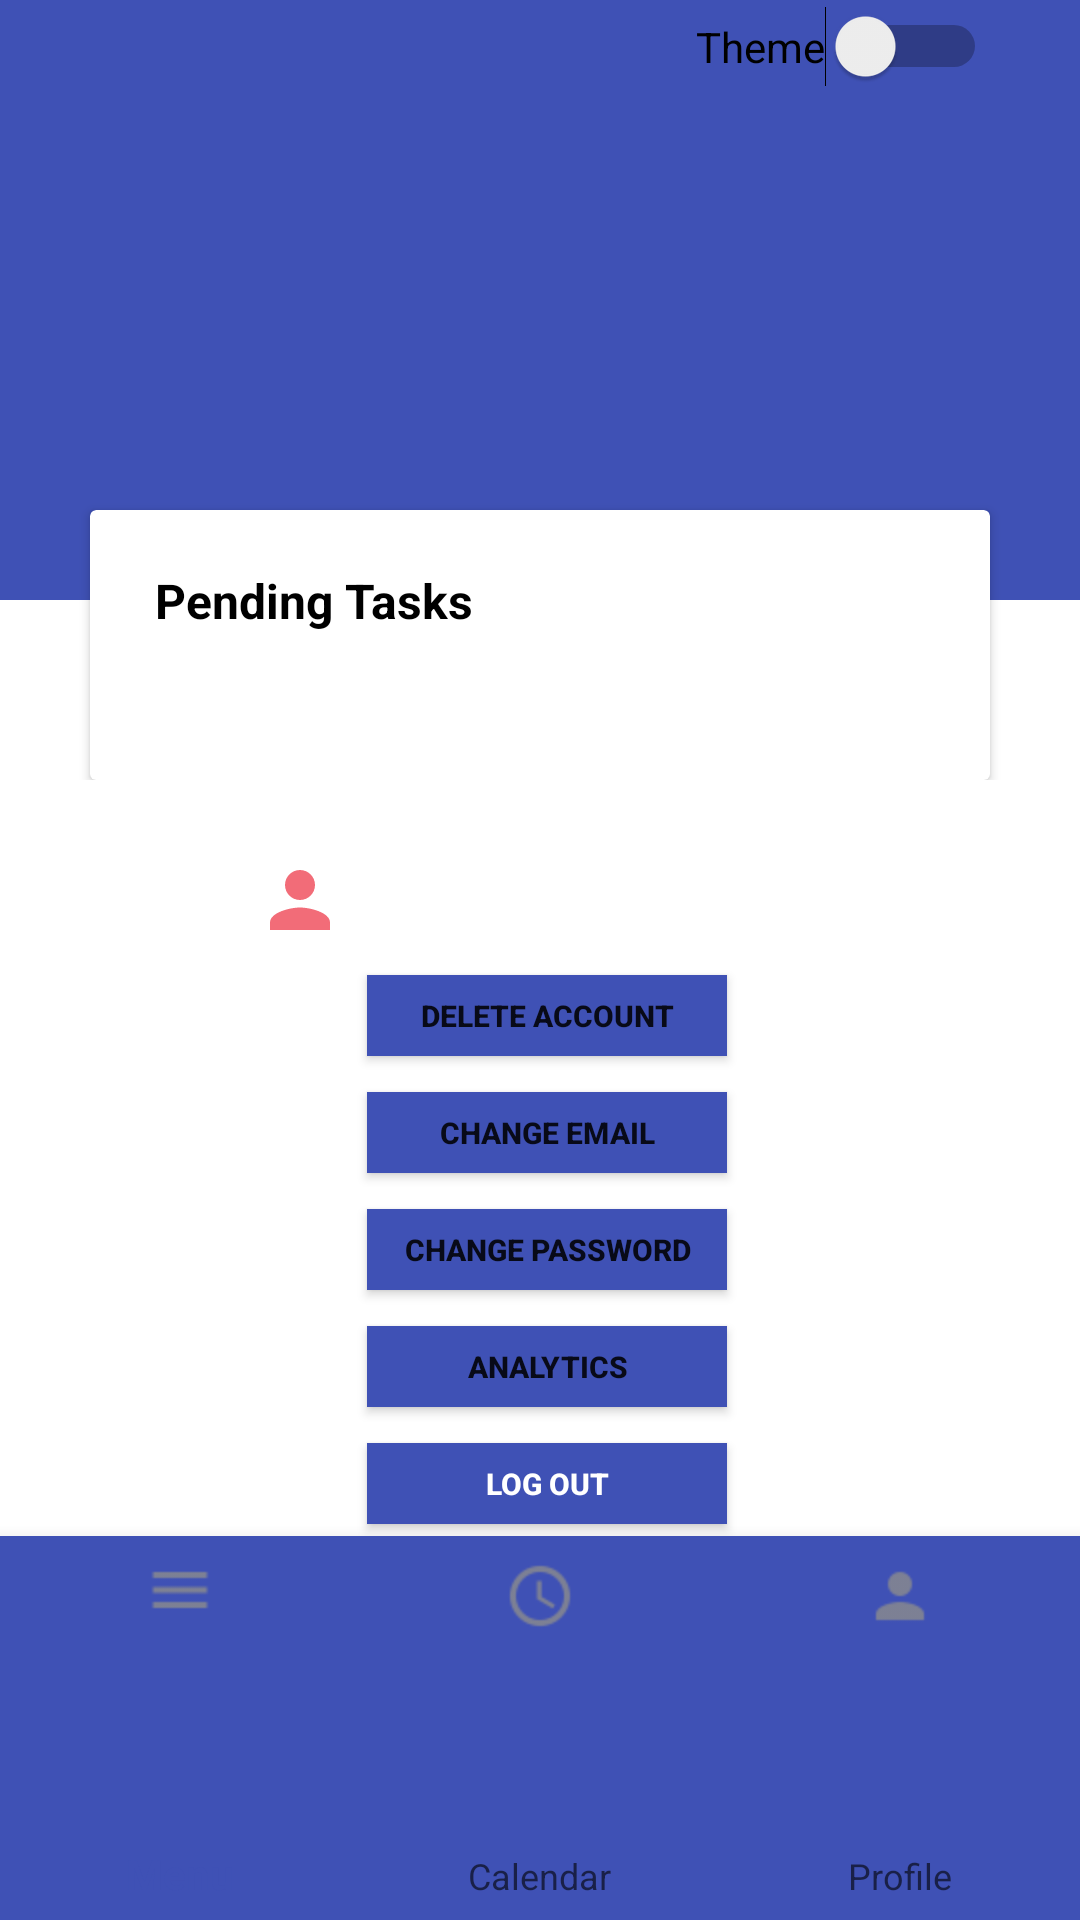

Icon bounding boxes for this 1080w x 1920h phone screenshot, format (x1, y1, x2, y2):
person: (270, 870, 330, 930)
